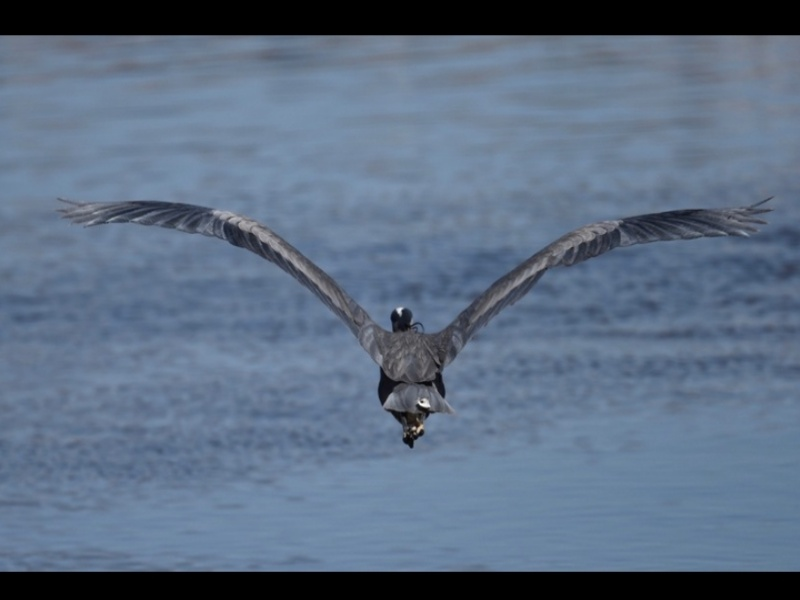heron: (53, 184, 776, 450)
